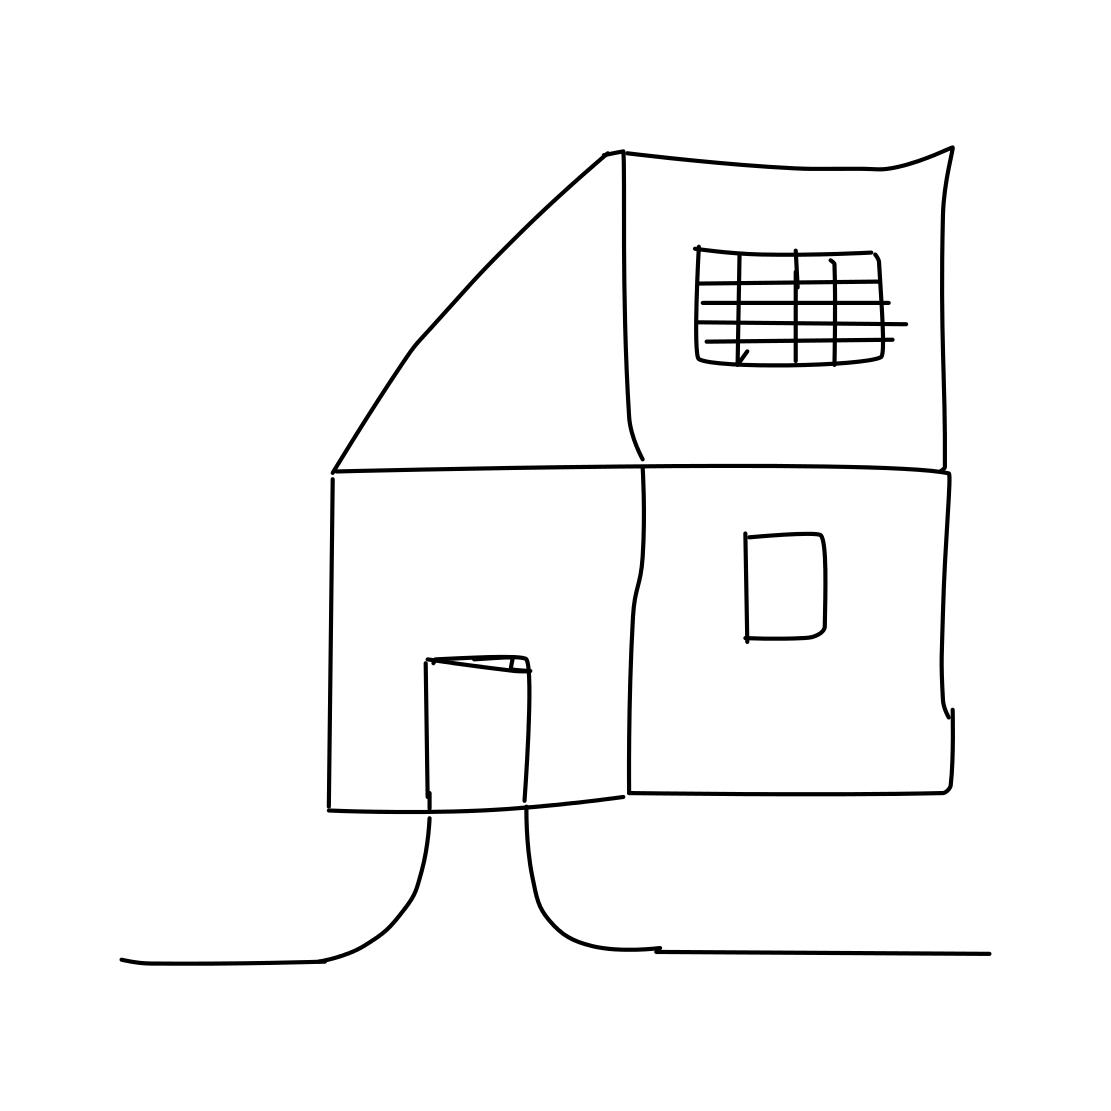House: (214, 115, 1008, 822)
